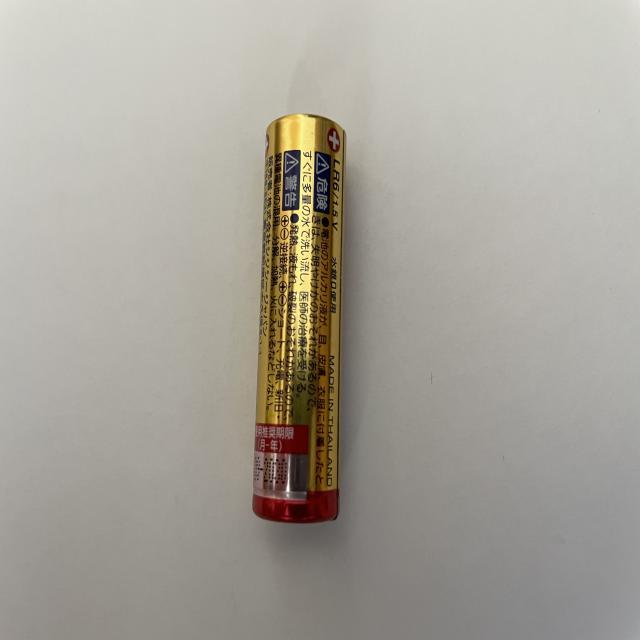hazardous waste: (250, 113, 350, 528)
